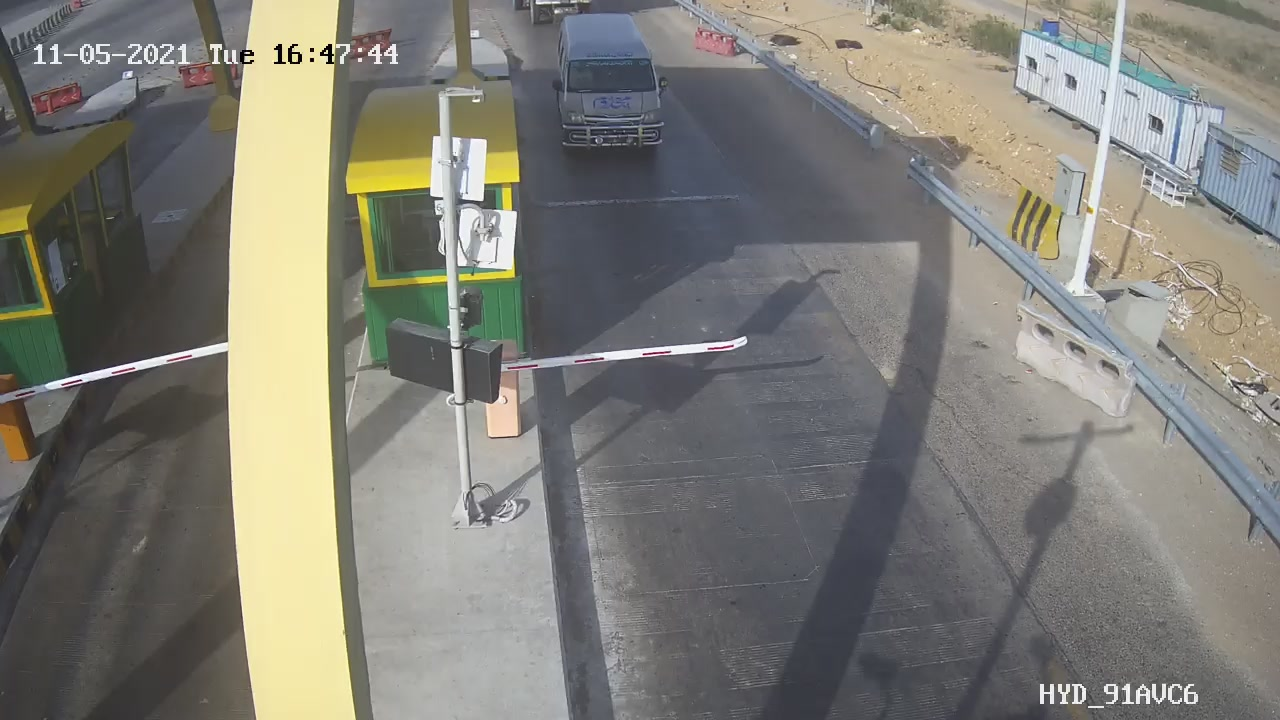F2: (538, 1, 687, 169)
